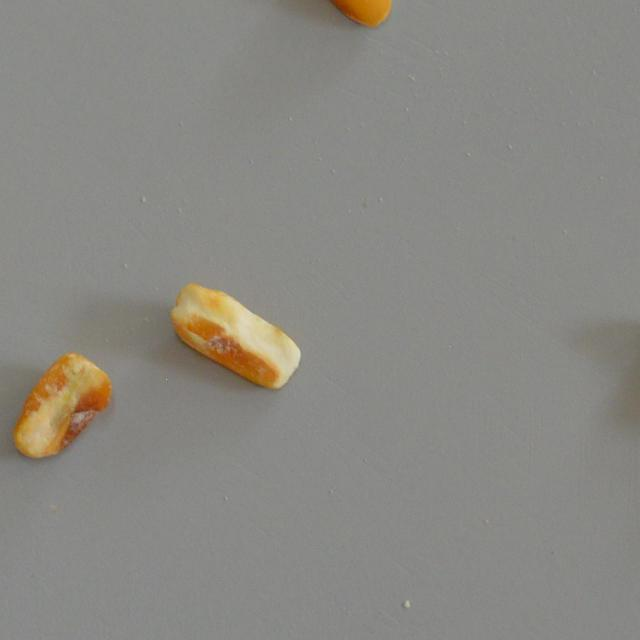dañado: (170, 282, 302, 390), (14, 350, 110, 461), (302, 0, 397, 28)
